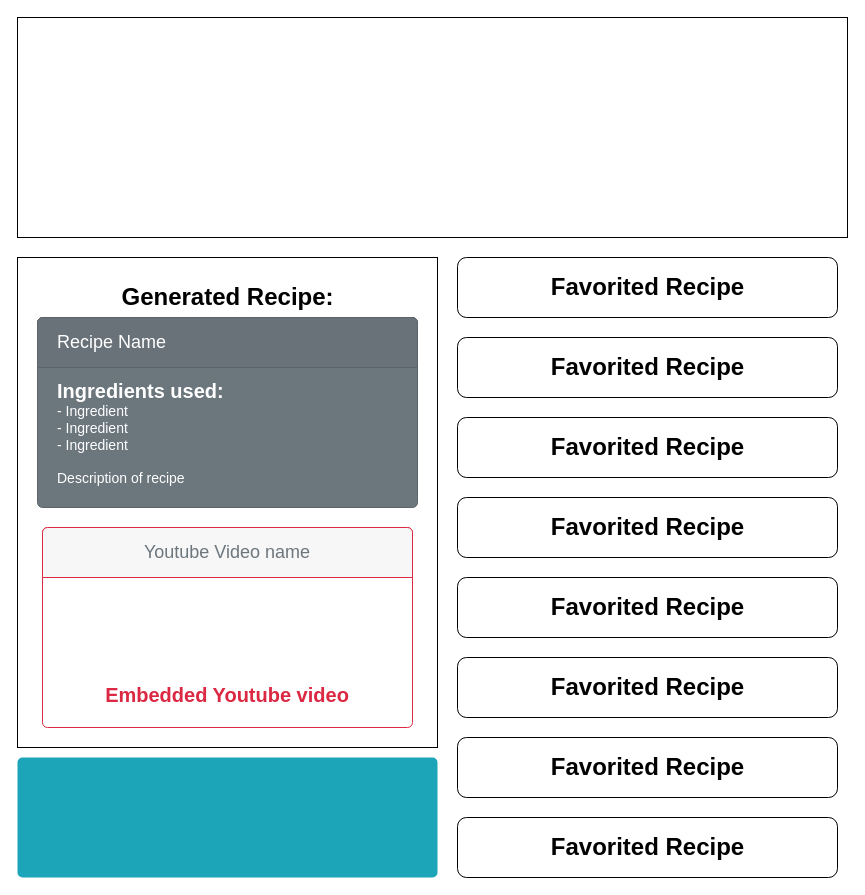
Some shapes in this 865 by 895 pixel diagram are drawn without their labels. The centre of each missing label's shape, as x and y in pixels:
Fork the Food: (432,127)
Generate another?: (227,817)
